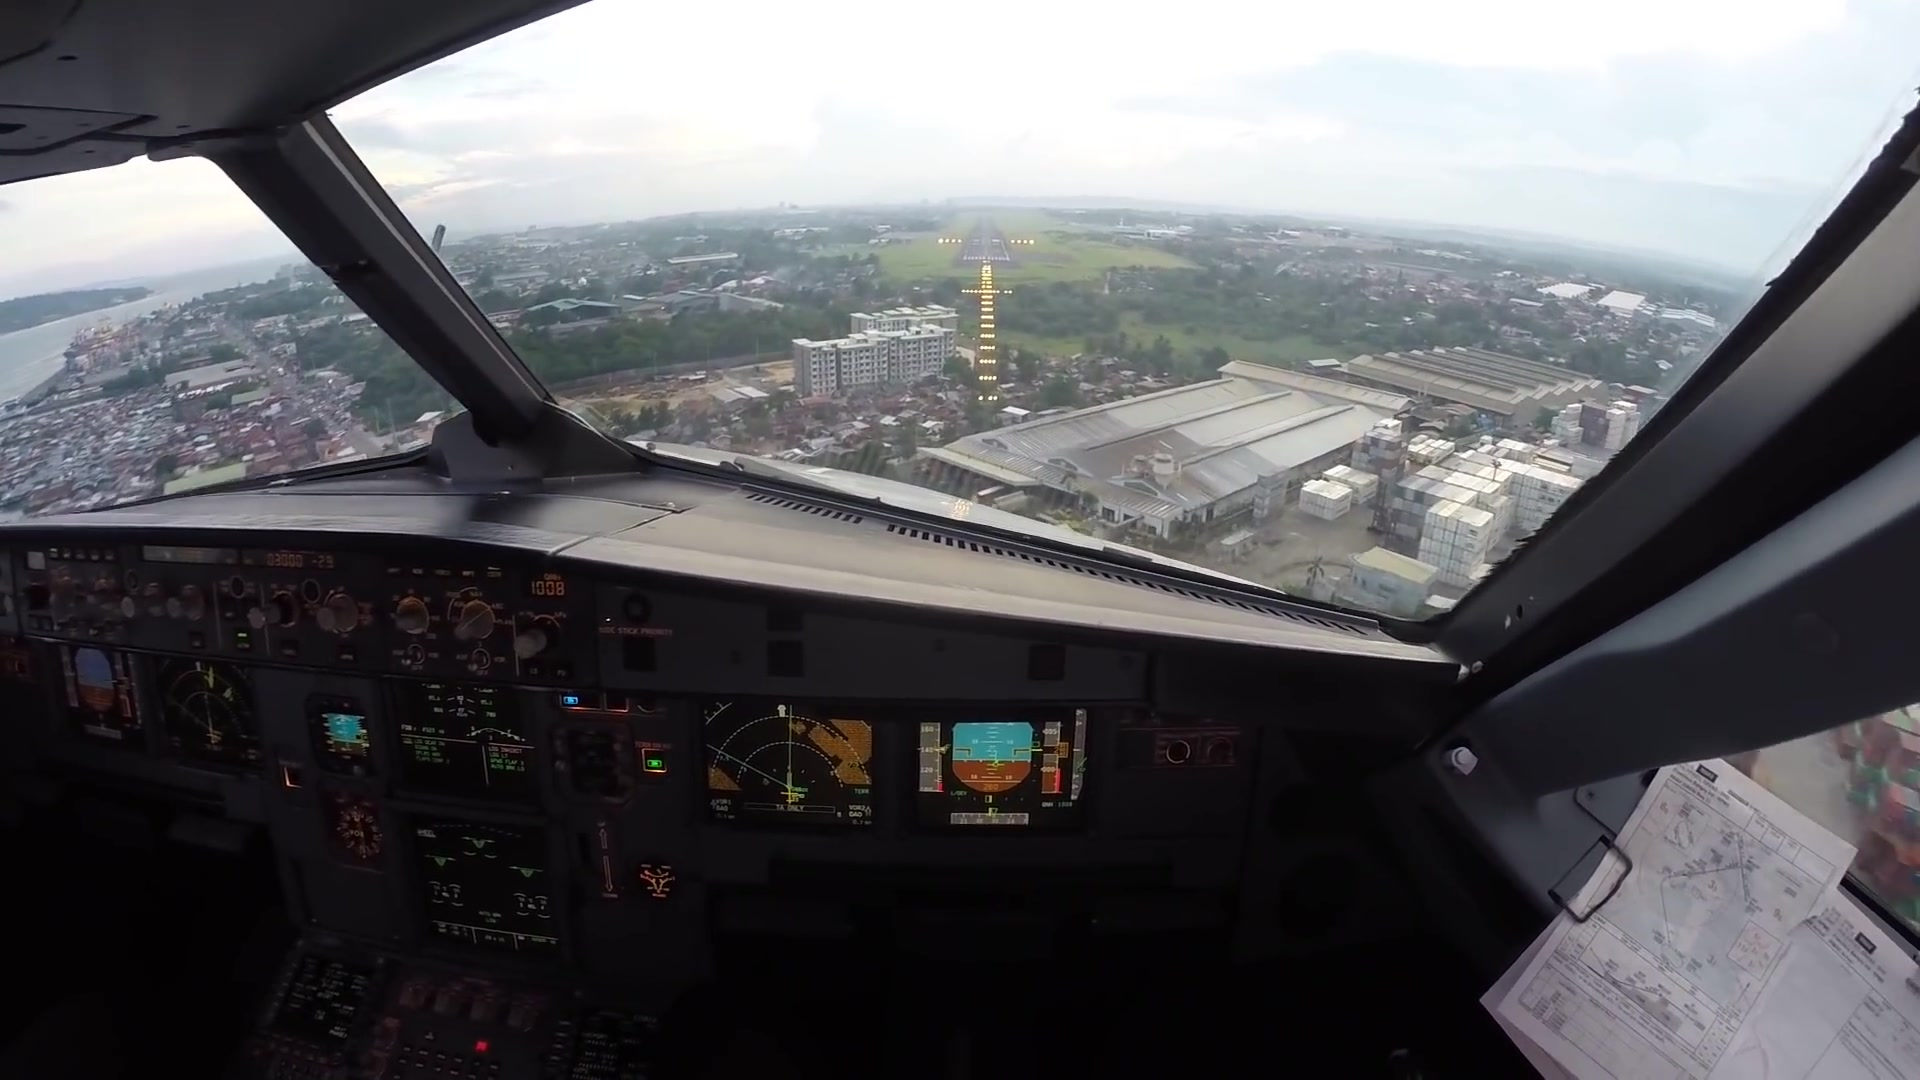entrance: (963, 255, 1007, 262)
runway: (957, 218, 1014, 268)
